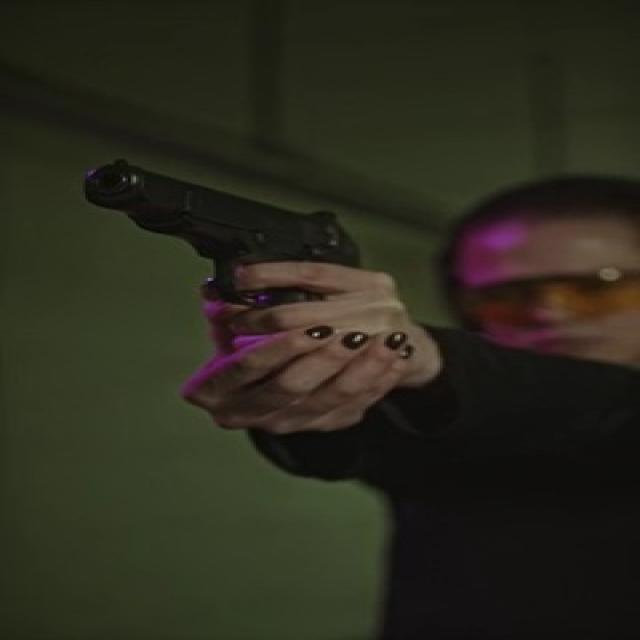Gun_Holder: (18, 146, 477, 440)
Person: (268, 124, 640, 640)
